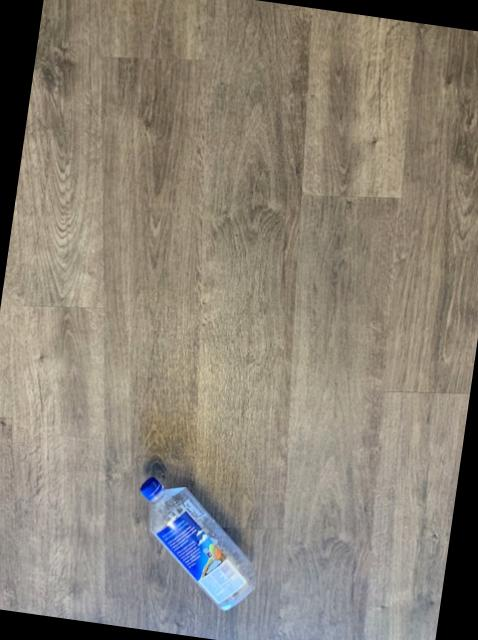plastic: (141, 479, 255, 611)
